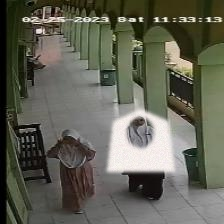Mukena: (106, 109, 175, 171)
